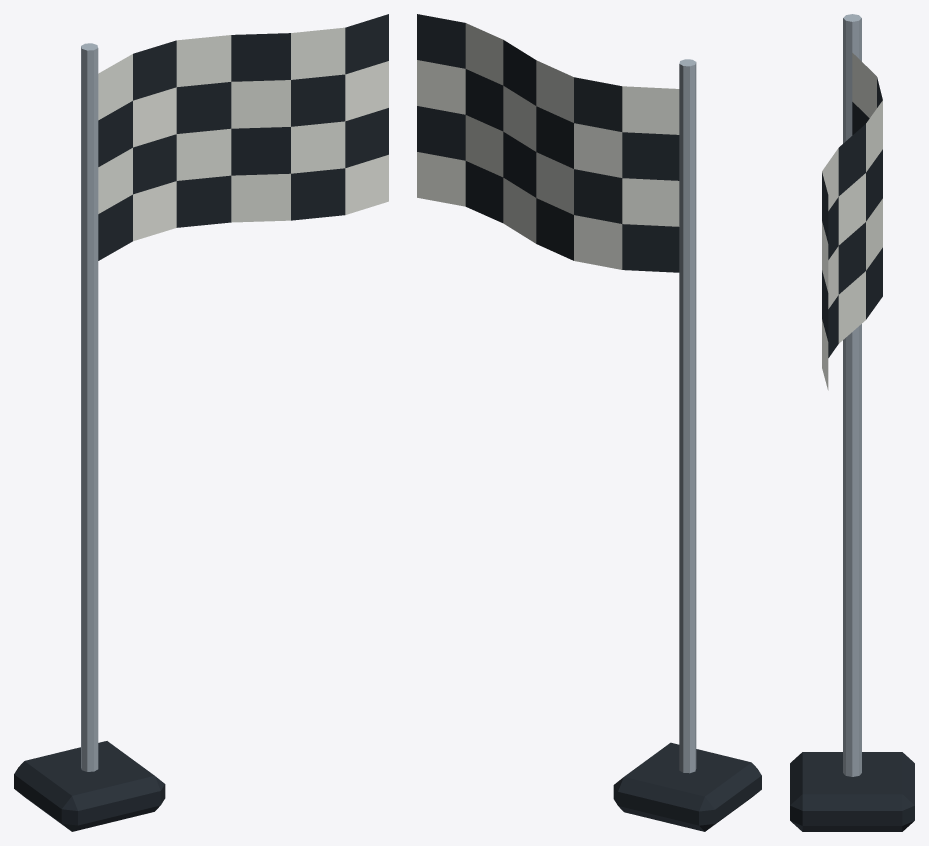
File: flag_checkered.glb
3 views of the same model, side by side, from view 1: azimuth 30°, elevation 25°; view 2: azimuth 150°, elevation 25°; view 3: azimuth 270°, elevation 25° (orthographic). The views are drawn at different scales.
Parts seen in each view (by area): view 1: flag_checkered__static; view 2: flag_checkered__static; view 3: flag_checkered__static.
Part boxes in pixels (x1,y1,x2,y2): flag_checkered__static: (14, 14, 388, 831); flag_checkered__static: (417, 14, 761, 831); flag_checkered__static: (790, 14, 914, 831).
Size of the model in its own units: 1.97 by 4.2 by 0.6.
